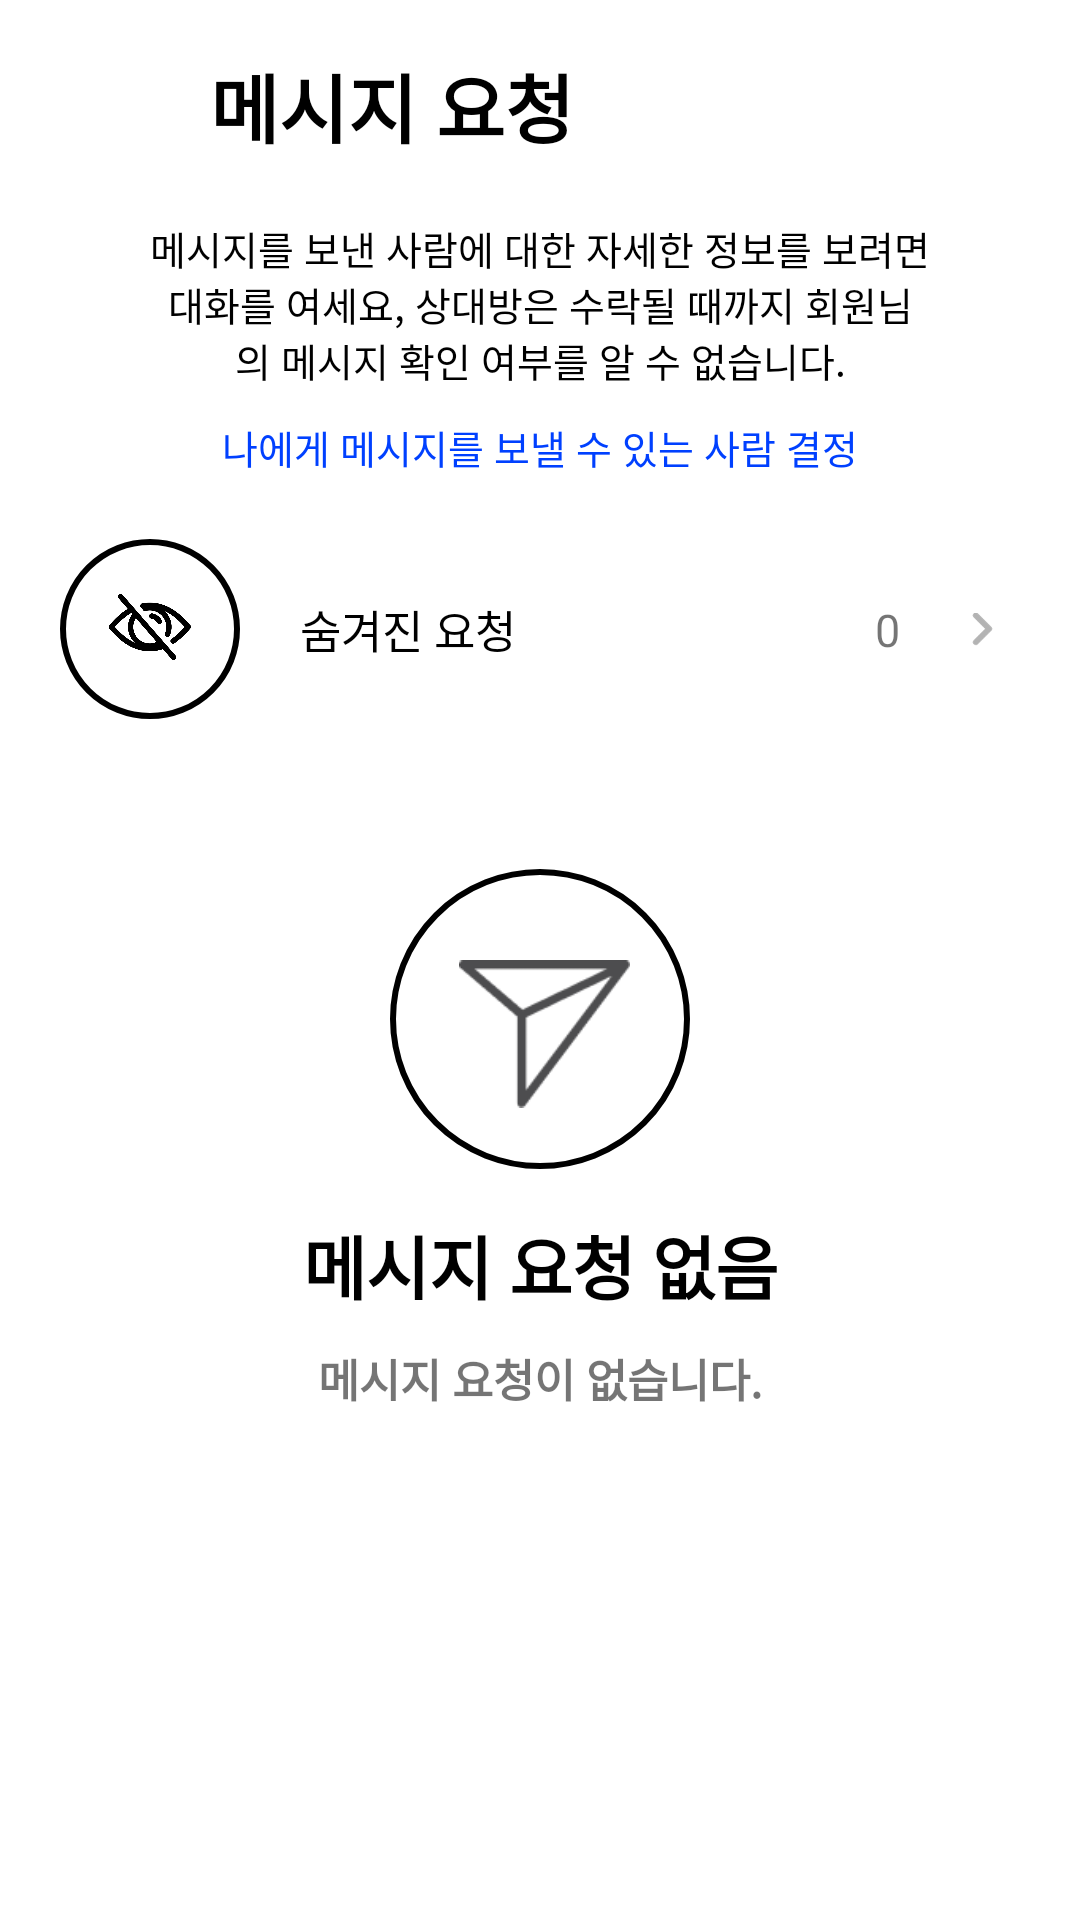

Icon bounding boxes for this 1080×1920 phone screenshot, format region(x1, y1, x2, y2):
hide: region(60, 539, 240, 719)
right more: region(973, 613, 992, 645)
send message: region(390, 869, 690, 1169)
